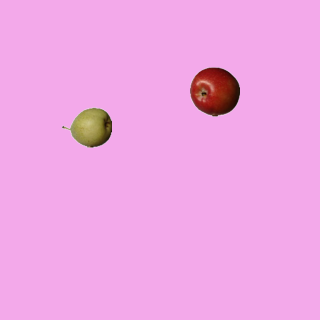Apple Braeburn: (189, 66, 239, 116)
Pear: (61, 102, 111, 152)
